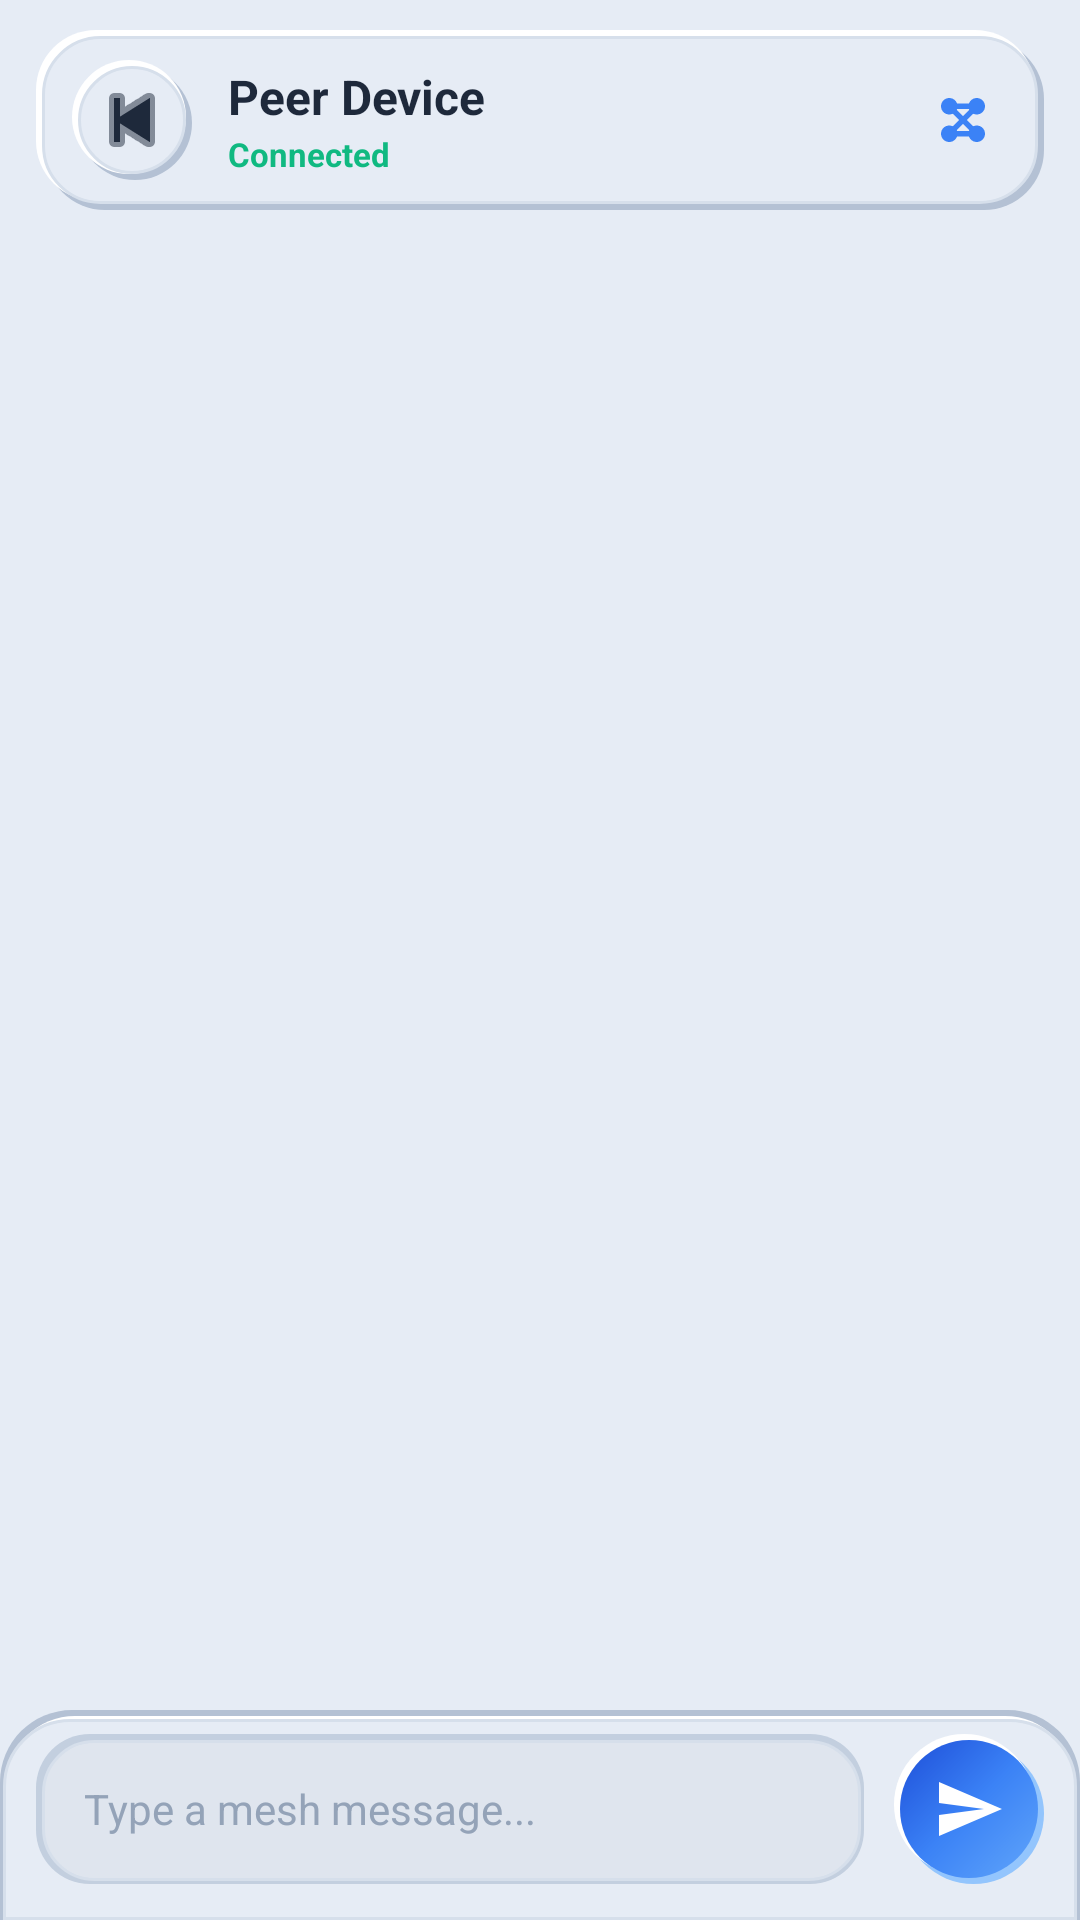

Icon click points for this 1080 x 1920 phone screenshot, format (x,y):
Back: (132,120)
Mesh icon: (963,120)
Send message: (969,1809)
